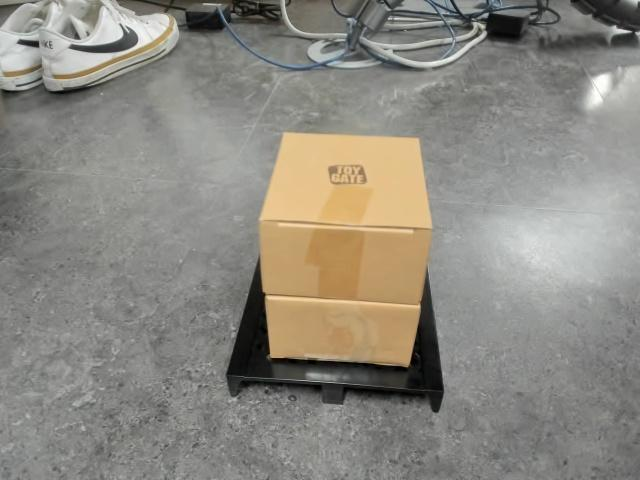box: (225, 129, 446, 414)
